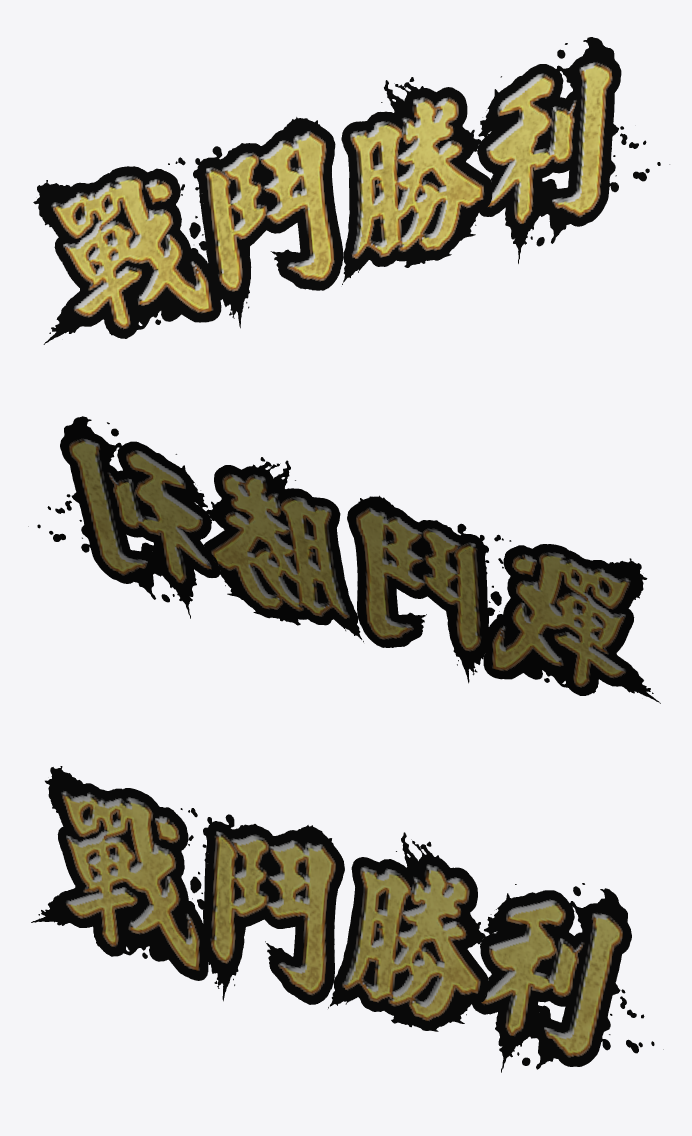
The model's file is effect_win.FBX.
3 renders of one model, top to bottom at view 1: azimuth 30°, elevation 25°; view 2: azimuth 150°, elevation 25°; view 3: azimuth 330°, elevation 25°, orthographic.
Visible parts, largest first — view 1: effect_win_1, effect_win_3, effect_win_4, effect_win_2; view 2: effect_win_1, effect_win_4, effect_win_3, effect_win_2; view 3: effect_win_1, effect_win_3, effect_win_4, effect_win_2.
Boxes of the visible parts, left/top/right/bottom form: effect_win_1: left=33, top=166, right=221, bottom=344; effect_win_3: left=341, top=77, right=492, bottom=284; effect_win_4: left=477, top=37, right=669, bottom=263; effect_win_2: left=168, top=117, right=343, bottom=328; effect_win_1: left=483, top=544, right=660, bottom=703; effect_win_4: left=28, top=416, right=220, bottom=618; effect_win_3: left=203, top=457, right=363, bottom=642; effect_win_2: left=347, top=495, right=511, bottom=683; effect_win_1: left=31, top=766, right=210, bottom=980; effect_win_3: left=328, top=832, right=489, bottom=1031; effect_win_4: left=472, top=883, right=663, bottom=1072; effect_win_2: left=180, top=808, right=344, bottom=1004.
Bounding box in the file's own units: 534 × 168 × 27.39.
Materials: 4 (4 with a texture image).
